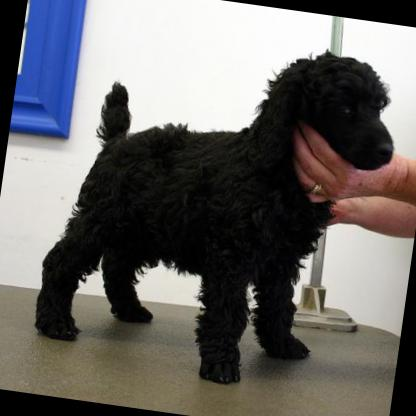miniature_poodle: (27, 12, 404, 400)
